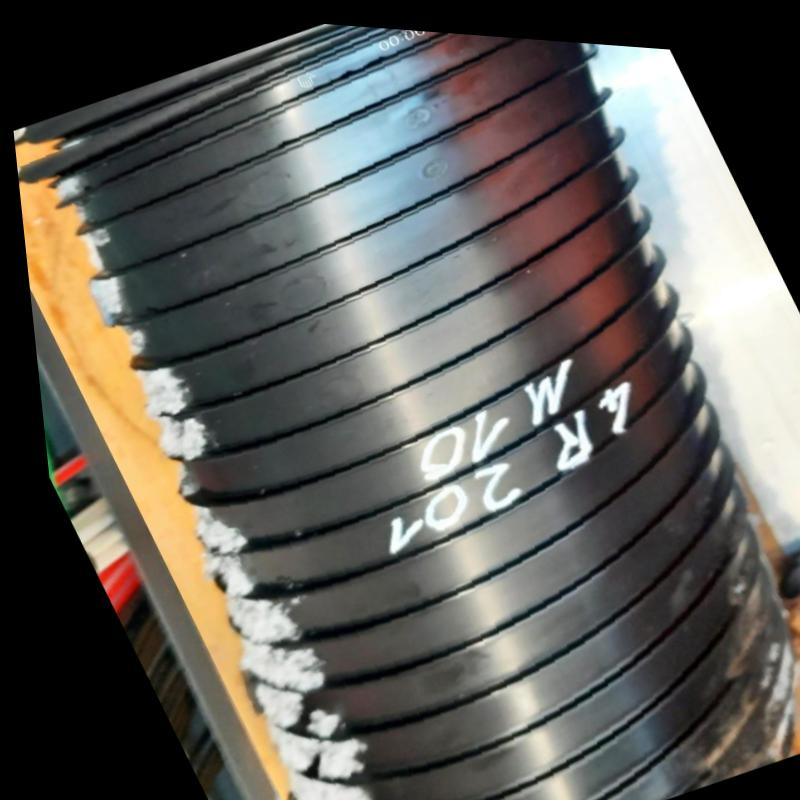NT-Muffen: (15, 21, 789, 800)
